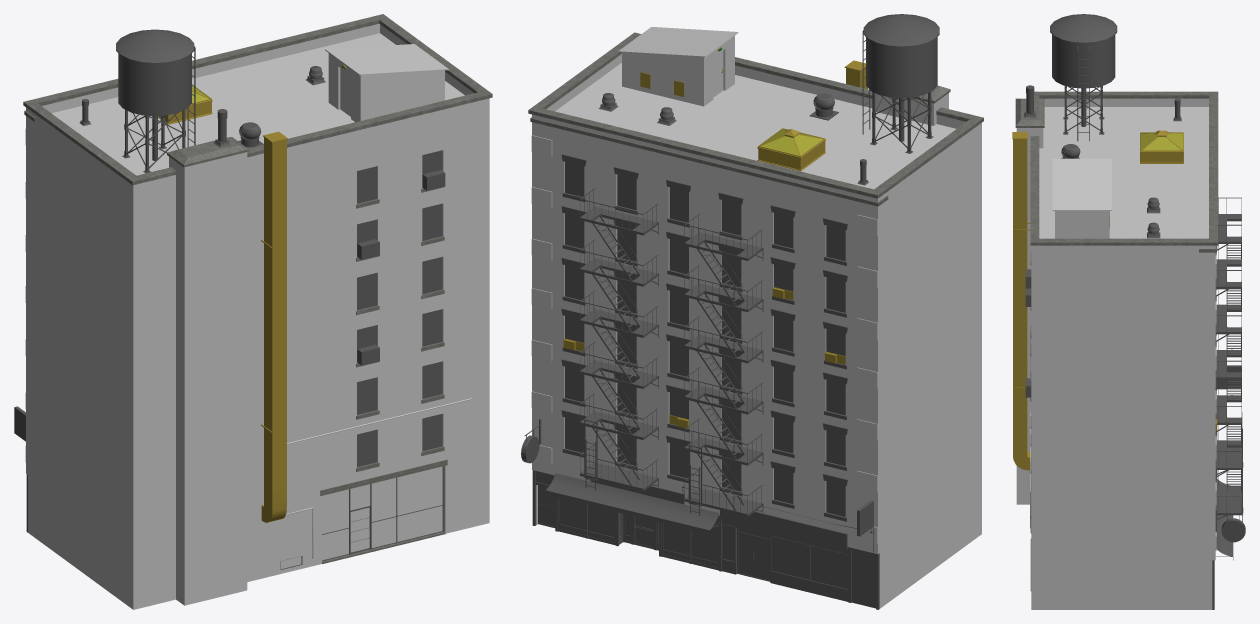
The model's file is mcp_building_10_LOD_0.FBX.
3 views of the same model, side by side, from view 1: azimuth 30°, elevation 25°; view 2: azimuth 150°, elevation 25°; view 3: azimuth 270°, elevation 25° (orthographic). The views are drawn at different scales.
Parts seen in each view (by area): view 1: mcp_building_10_walls_01, mcp_building_10_rooftop, mcp_building_10_props_02, mcp_building_10, mcp_building_10_concrete_01, mcp_building_10_props_03, mcp_building_10_fence, mcp_building_10_metal_roof, mcp_building_10_concrete_02, mcp_building_10_props_01; view 2: mcp_building_10_walls_01, mcp_building_10, mcp_building_10_props_01, mcp_building_10_rooftop, mcp_building_10_concrete_01, mcp_building_10_props_03, mcp_building_10_props_02, mcp_building_10_metal_roof; view 3: mcp_building_10_walls_01, mcp_building_10_rooftop, mcp_building_10_props_02, mcp_building_10_props_01, mcp_building_10_props_03, mcp_building_10_concrete_01, mcp_building_10_metal_roof, mcp_building_10, mcp_building_10_concrete_02.
Boxes of the visible parts, x1,y1,x2,y2 form: mcp_building_10_walls_01: (25, 23, 489, 609); mcp_building_10_rooftop: (52, 33, 464, 175); mcp_building_10_props_02: (158, 65, 350, 522); mcp_building_10: (14, 150, 443, 569); mcp_building_10_concrete_01: (23, 14, 492, 185); mcp_building_10_props_03: (79, 29, 325, 173); mcp_building_10_fence: (322, 466, 442, 560); mcp_building_10_metal_roof: (325, 44, 448, 75); mcp_building_10_concrete_02: (320, 186, 447, 563); mcp_building_10_props_01: (357, 170, 445, 365); mcp_building_10_walls_01: (531, 36, 981, 608); mcp_building_10: (521, 154, 879, 609); mcp_building_10_props_01: (580, 188, 763, 516); mcp_building_10_rooftop: (555, 63, 955, 189); mcp_building_10_concrete_01: (528, 32, 983, 206); mcp_building_10_props_03: (598, 14, 939, 185); mcp_building_10_props_02: (563, 47, 867, 428); mcp_building_10_metal_roof: (618, 27, 738, 57); mcp_building_10_walls_01: (1016, 98, 1216, 609); mcp_building_10_rooftop: (1039, 107, 1208, 238); mcp_building_10_props_02: (1012, 130, 1217, 470); mcp_building_10_props_01: (1025, 197, 1243, 521); mcp_building_10_props_03: (1024, 14, 1181, 238); mcp_building_10_concrete_01: (1015, 91, 1218, 252); mcp_building_10_metal_roof: (1052, 158, 1111, 210); mcp_building_10: (1212, 252, 1245, 609); mcp_building_10_concrete_02: (1030, 253, 1031, 590).
Bounding box in the file's own units: 2545 × 3672 × 1665.
